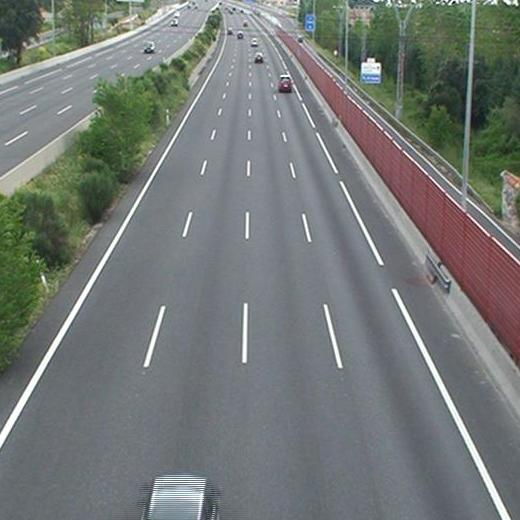car: (278, 76, 292, 91), (254, 53, 263, 62), (250, 38, 258, 46)
